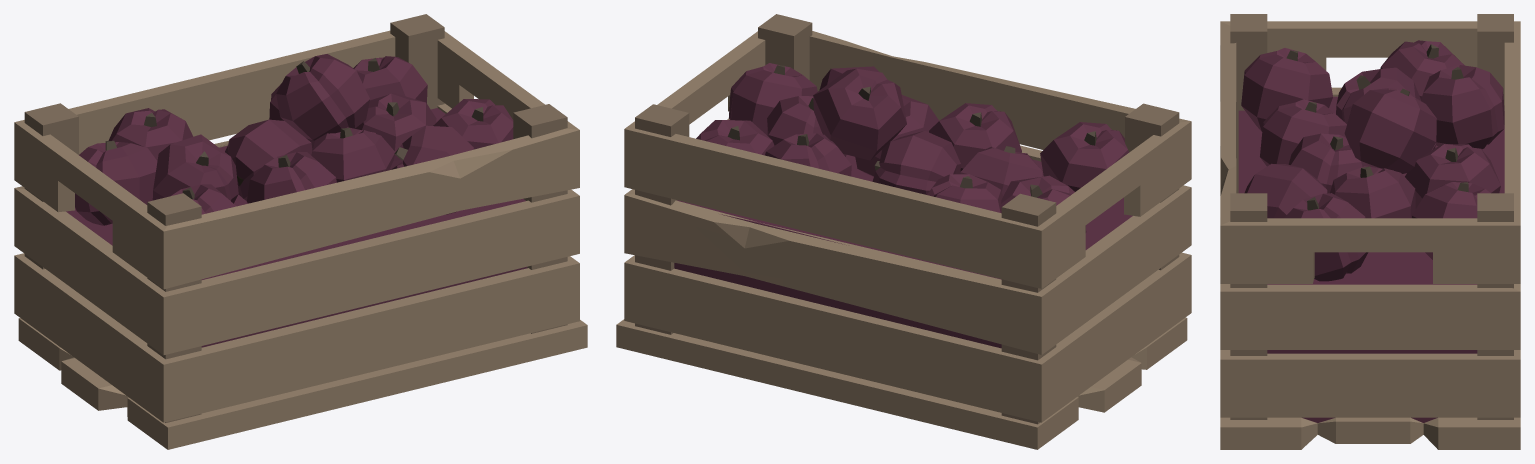
Rendered from SM_Prop_Box_Plum_01.glb.
3 views of the same model, side by side, from view 1: azimuth 30°, elevation 25°; view 2: azimuth 150°, elevation 25°; view 3: azimuth 270°, elevation 25° (orthographic).
Visible parts, largest first — view 1: SM_Prop_Box_Plum_01; view 2: SM_Prop_Box_Plum_01; view 3: SM_Prop_Box_Plum_01.
Part boxes in pixels (x1,y1,x2,y2): SM_Prop_Box_Plum_01: (14,14,587,449); SM_Prop_Box_Plum_01: (616,14,1191,449); SM_Prop_Box_Plum_01: (1220,14,1520,449).
Bounding box in the file's own units: 0.7557 × 0.4516 × 0.4526.
1 material, 1 textured.
